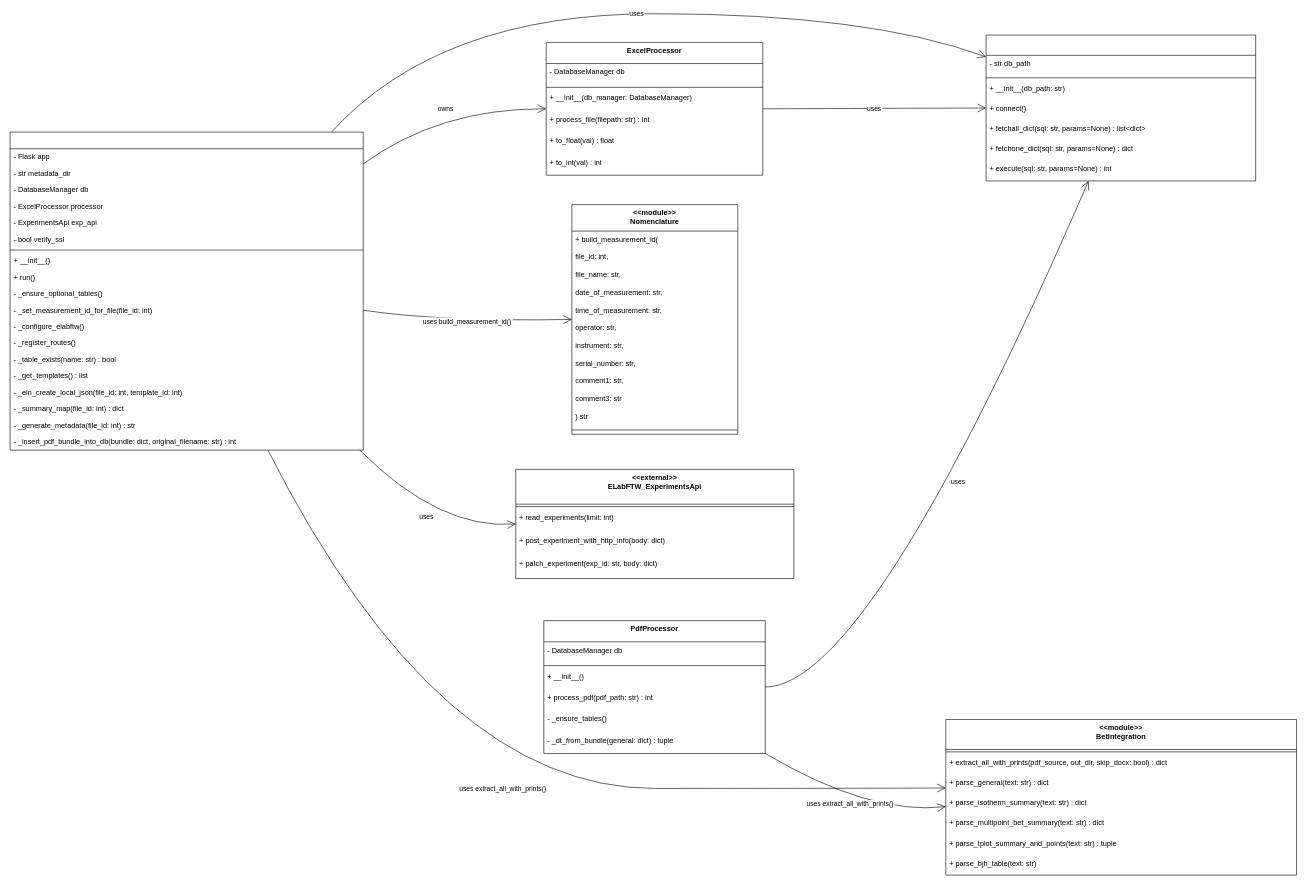
The diagram is 1307 pixels wide and 885 high, and some of its shapes have lost their labels. The box of each missing label's shape, as (x1, y1, x2, y2) in pixels:
DatabaseManager: (985, 34, 1256, 181)
PuraloxApp: (9, 131, 363, 450)
